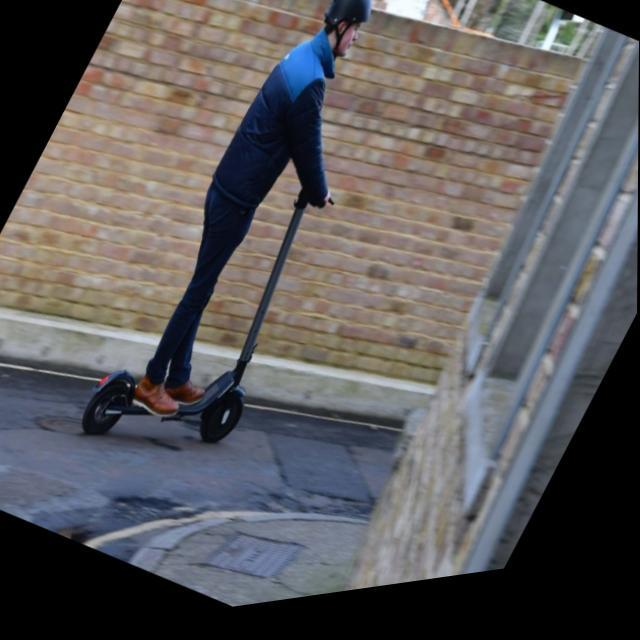Helmet: (312, 0, 379, 63)
